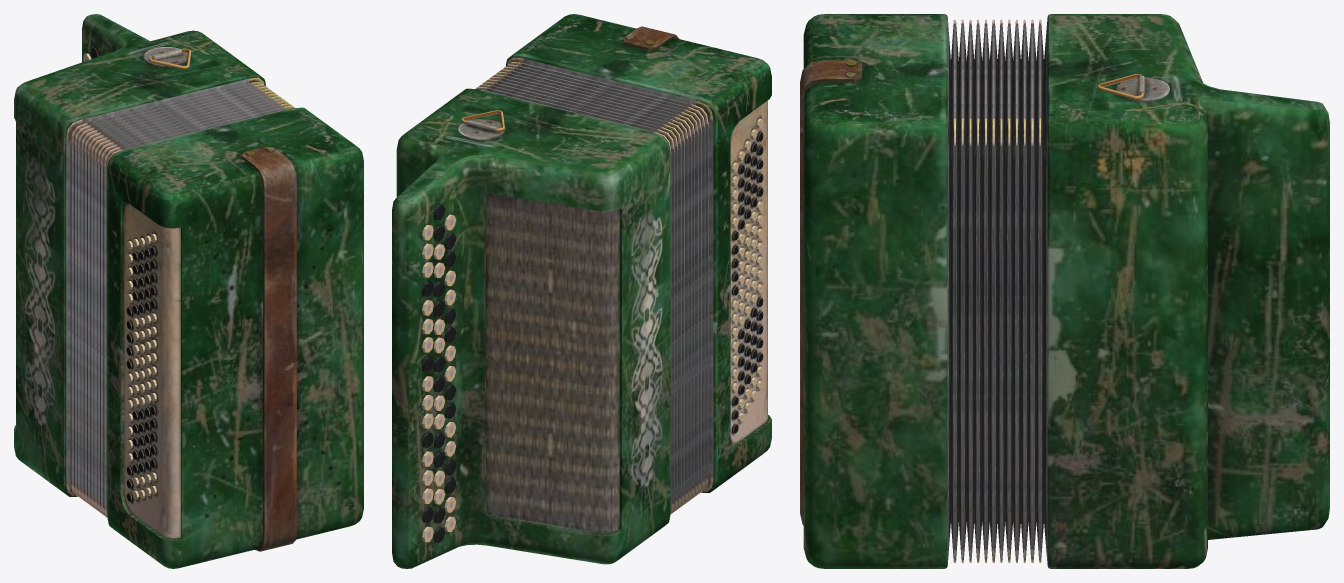
File: accordion-button.glb
The picture shows the model from 3 angles, left to right: view 1: azimuth 30°, elevation 25°; view 2: azimuth 150°, elevation 25°; view 3: azimuth 270°, elevation 25°; orthographic projection. The views are drawn at different scales.
Visible parts, largest first — view 1: accordion-button; view 2: accordion-button; view 3: accordion-button.
Boxes of the visible parts, left/top/right/bottom form: accordion-button: left=14, top=14, right=363, bottom=568; accordion-button: left=392, top=14, right=771, bottom=568; accordion-button: left=800, top=14, right=1329, bottom=568.
Bounding box in the file's own units: 0.2364 × 0.4317 × 0.45.
1 material, 1 textured.
